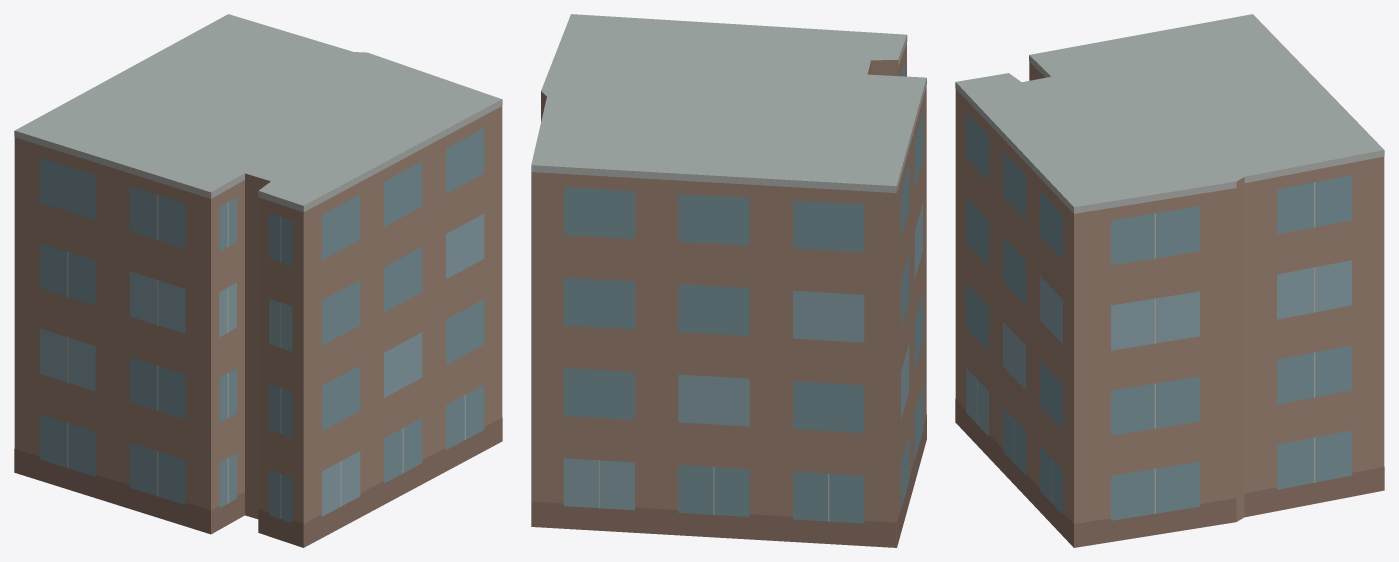
File: survey-upis-32964298.glb
3 renders of one model, left to right at view 1: azimuth 30°, elevation 25°; view 2: azimuth 150°, elevation 25°; view 3: azimuth 270°, elevation 25°, orthographic. The views are drawn at different scales.
Parts seen in each view (by area): view 1: survey-upis-32964298.tmp; view 2: survey-upis-32964298.tmp; view 3: survey-upis-32964298.tmp.
Part boxes in pixels (x1=…): survey-upis-32964298.tmp: x1=14, y1=14, x2=502, y2=547; survey-upis-32964298.tmp: x1=531, y1=14, x2=926, y2=547; survey-upis-32964298.tmp: x1=955, y1=14, x2=1384, y2=547.
Bounding box in the file's own units: 15.6 × 12.8 × 14.62.
